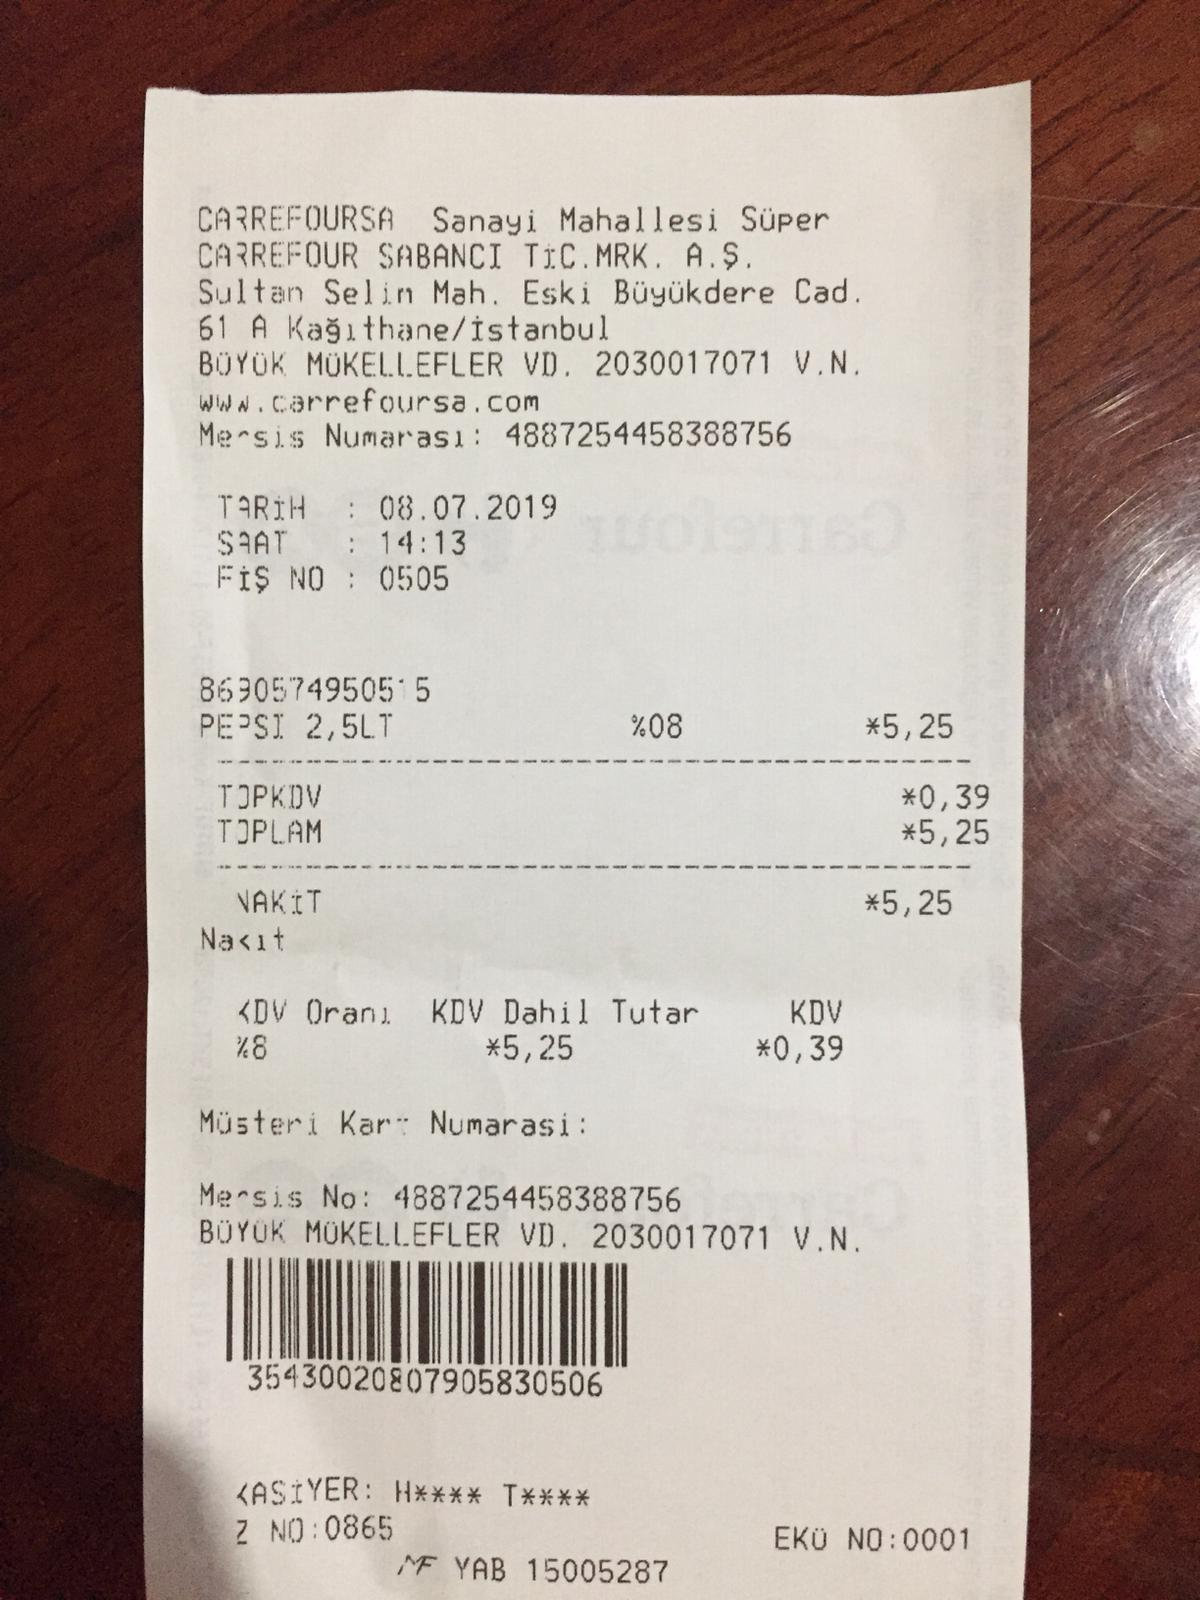total: (214, 815, 999, 860)
